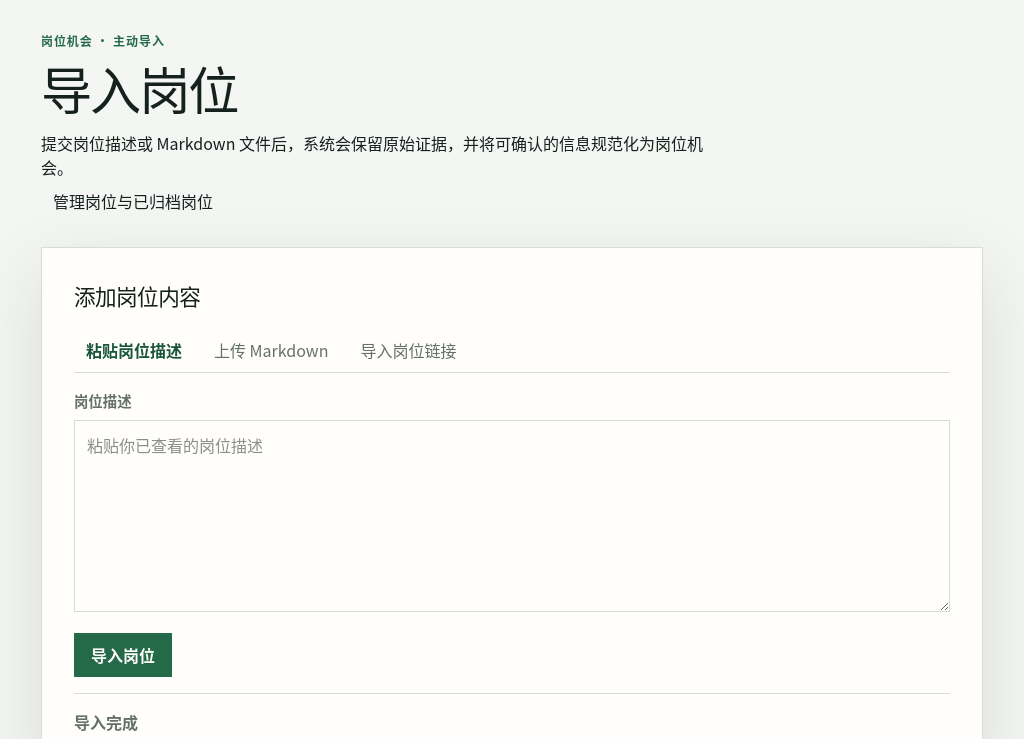
Test: 复用当前记录后仍显示真实的终态，且提示不会遮蔽切换后的状态
Type "重复岗位正文" into the text box labelled "岗位描述" at x=512, y=516, box [74,420,950,612]
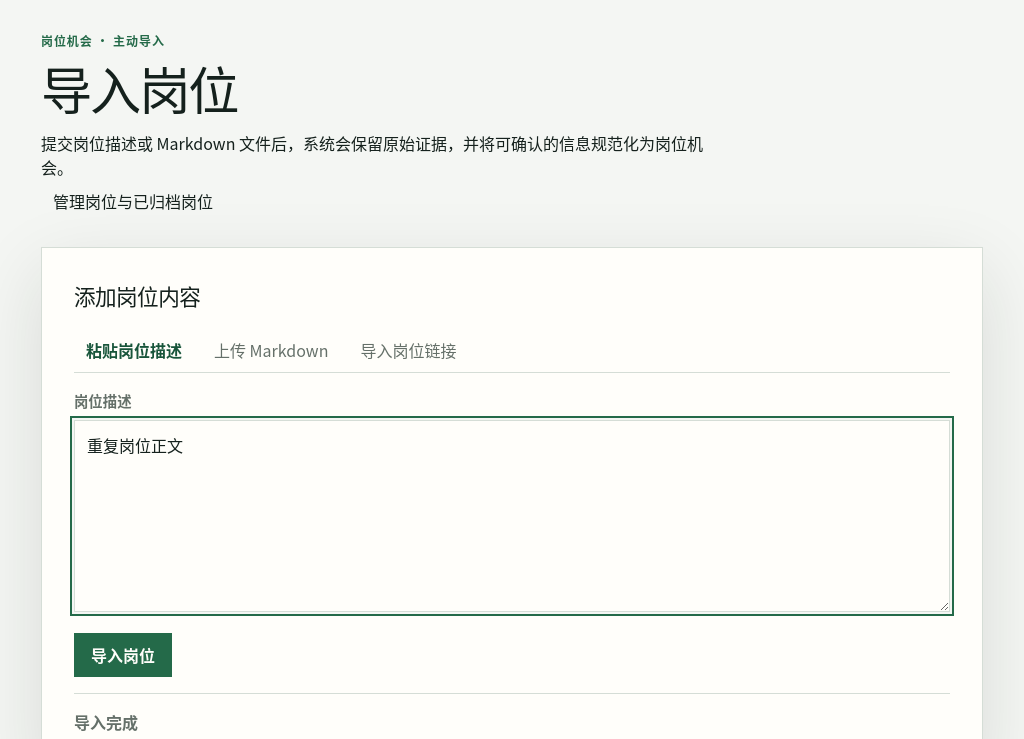
Click the button "导入岗位" at x=123, y=655, box [74,633,172,677]
(page scrolled)
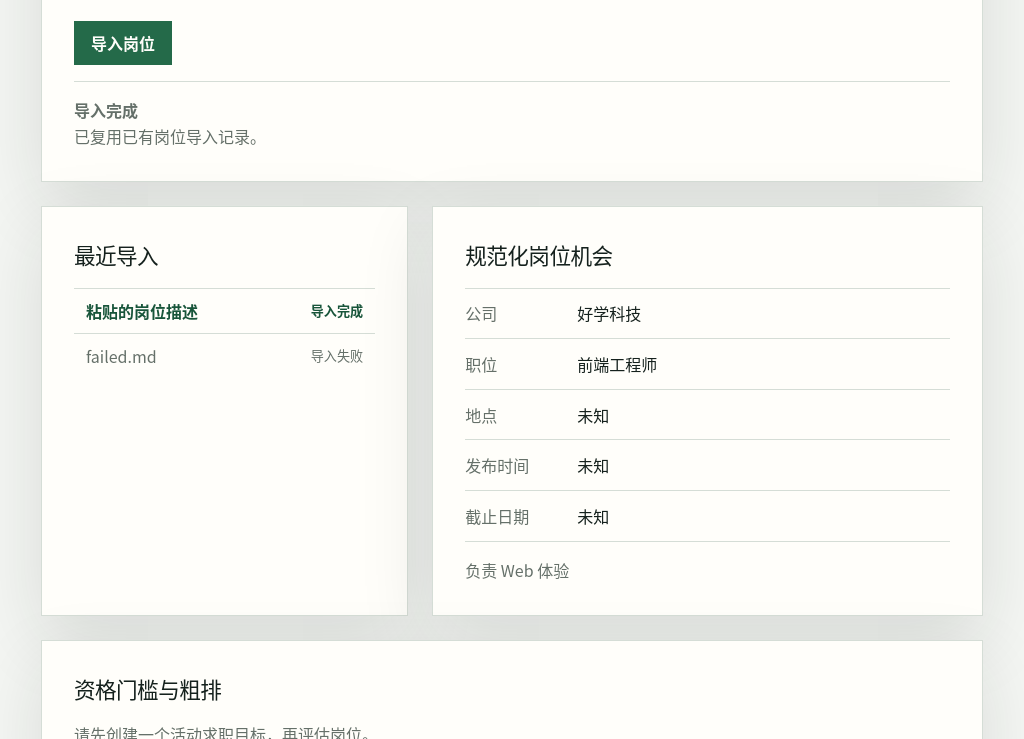
expect the message reads "导入完成": met, box [74,98,138,122]
expect the text "已复用已有岗位导入记录。" is shown: met, box [74,124,266,148]
Click the button "failed.md 导入失败" at x=121, y=356, box [74,334,375,378]
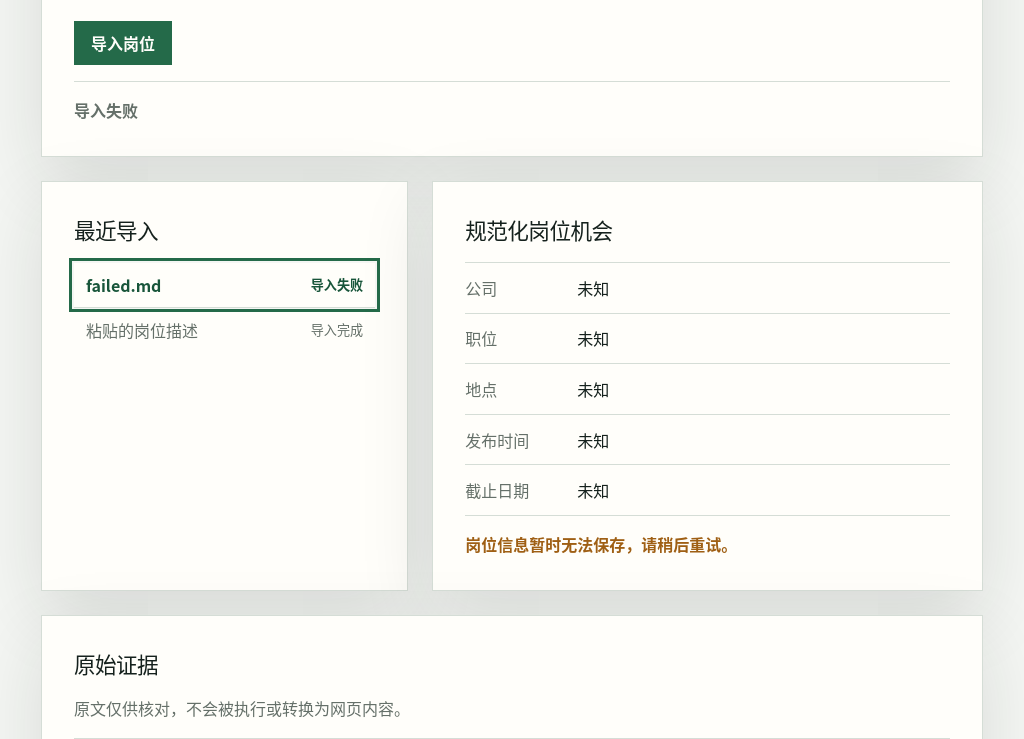
expect the message reads "导入失败": met, box [74,98,138,122]
expect the text "已复用已有岗位导入记录。" is gone: met
